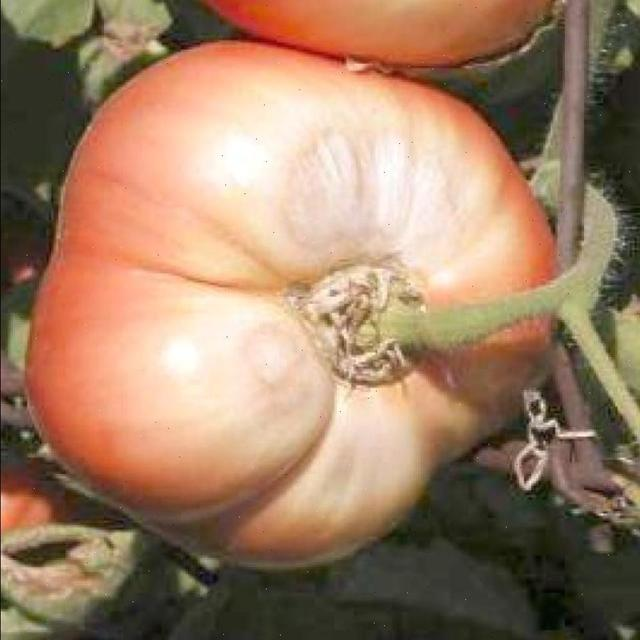Sunscald Fruit: (111, 85, 337, 334)
